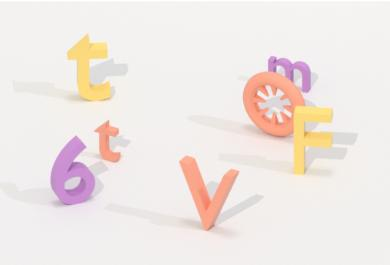6: (45, 131, 98, 208)
F: (292, 101, 337, 178)
V: (176, 149, 243, 235)
t: (64, 32, 117, 105), (92, 116, 125, 166)
